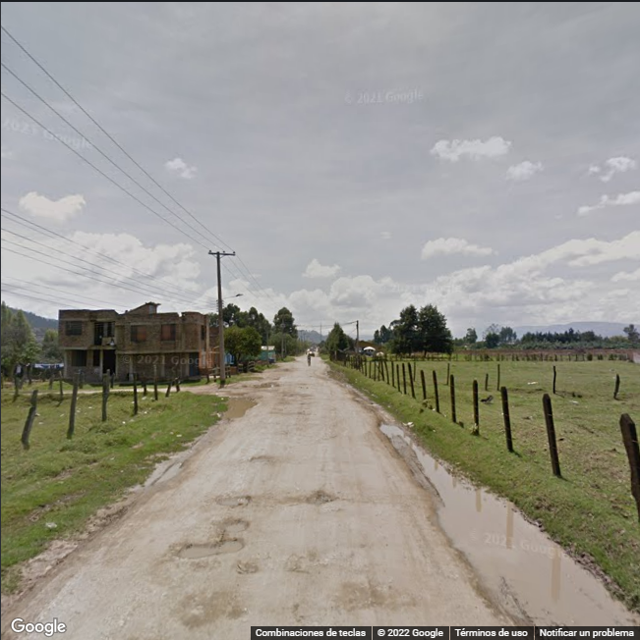D10: (341, 498, 416, 509)
D40: (337, 581, 414, 615), (180, 594, 238, 629), (175, 533, 245, 561)
